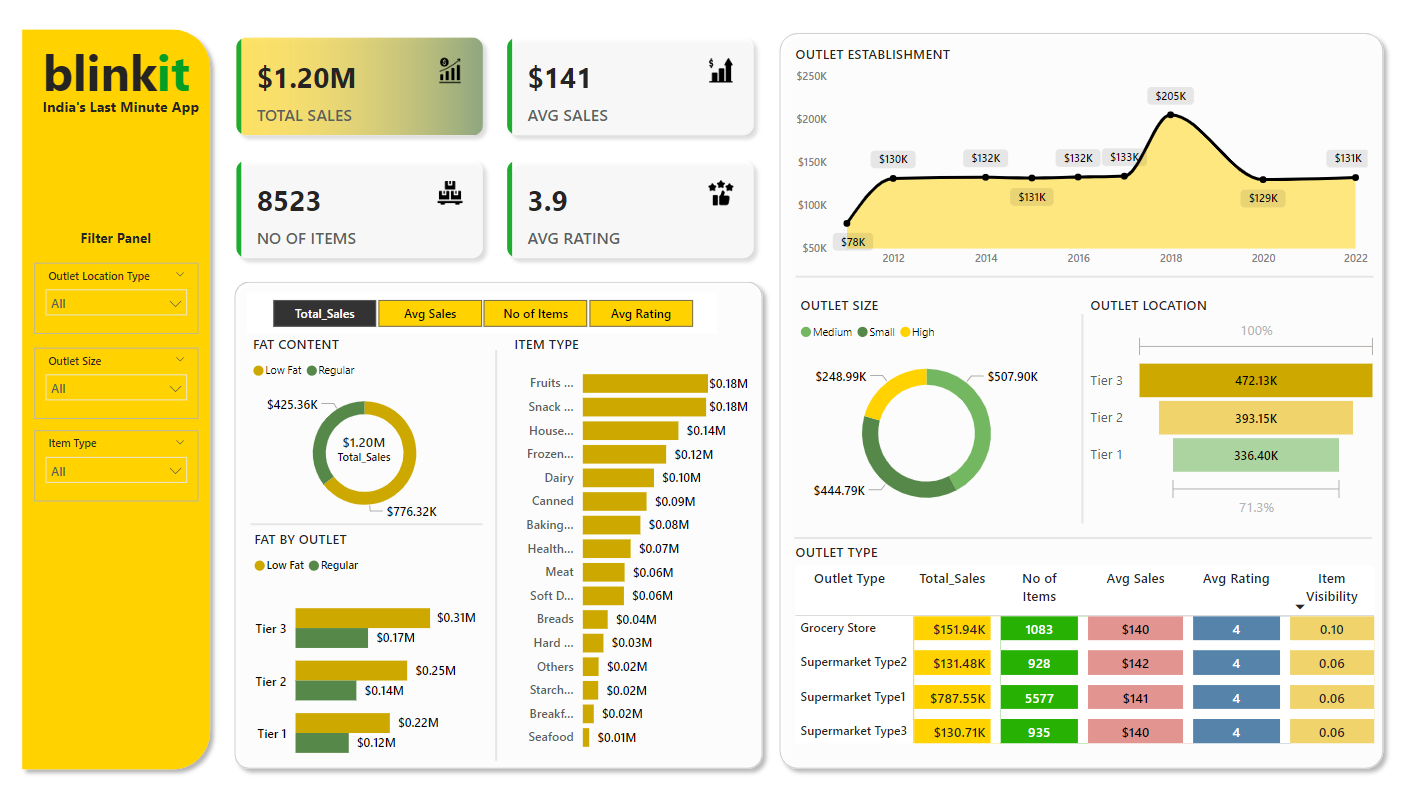

What the dashboard file says about the page in this screenshot:
{"tool":"powerbi","page":{"name":"Page 1","canvas":[1400,800],"ordinal":0},"visuals":[{"type":"shape","box":[19.5,25.5,204.1,750.4],"z":0},{"type":"textbox","box":[19.5,39,204.1,75],"z":1000},{"type":"textbox","box":[30,49.5,193.6,75],"z":2000},{"type":"textbox","box":[37.5,96.1,178.6,28.5],"z":3000},{"type":"cardVisual","fields":{"Data":["BlinkIT Grocery Data.Total_Sales","BlinkIT Grocery Data.Avg Sales","BlinkIT Grocery Data.No of Items","BlinkIT Grocery Data.Avg Rating"]},"box":[223.6,25.5,546.3,252.1],"z":4000},{"type":"shape","box":[229.6,276.2,540.3,499.8],"z":5000},{"type":"donutChart","title":"FAT CONTENT","fields":{"Y":["BlinkIT Grocery Data.Total_Sales"],"Category":["BlinkIT Grocery Data.Item Fat Content"]},"box":[252.1,336.2,231.1,190.6],"z":6000},{"type":"slicer","fields":{"Values":["Metrics.Metrics"]},"box":[250.6,295.7,465.3,40.5],"z":7000},{"type":"cardVisual","fields":{"Data":["BlinkIT Grocery Data.Total_Sales"]},"box":[319.7,417.2,96.1,61.5],"z":8000},{"type":"clusteredBarChart","title":"FAT BY OUTLET","fields":{"Y":["BlinkIT Grocery Data.Total_Sales"],"Category":["BlinkIT Grocery Data.Outlet Location Type"],"Series":["BlinkIT Grocery Data.Item Fat Content"]},"box":[253.6,529.8,229.6,249.1],"z":9000},{"type":"shape","box":[255.1,505.8,229.6,37.5],"z":10000},{"type":"shape","box":[462.3,352.7,70.5,406.7],"z":11000},{"type":"barChart","title":"ITEM TYPE","fields":{"Y":["BlinkIT Grocery Data.Total_Sales"],"Category":["BlinkIT Grocery Data.Item Type"]},"box":[510.3,336.2,241.6,423.2],"z":12000},{"type":"shape","box":[769.9,30,615.4,745.9],"z":13000},{"type":"lineChart","title":" OUTLET ESTABLISHMENT","fields":{"Category":["BlinkIT Grocery Data.Outlet Establishment Year"],"Y":["BlinkIT Grocery Data.Total_Sales"]},"box":[789.5,49.5,576.3,229.6],"z":14000},{"type":"shape","box":[794,261.2,571.8,37.5],"z":15000},{"type":"donutChart","title":"OUTLET SIZE","fields":{"Y":["BlinkIT Grocery Data.Total_Sales"],"Category":["BlinkIT Grocery Data.Outlet Size"]},"box":[794,298.7,259.6,228.1],"z":16000},{"type":"shape","box":[1043.1,316.7,70.5,207.1],"z":17000},{"type":"funnel","title":" OUTLET LOCATION","fields":{"Y":["Sum(BlinkIT Grocery Data.Sales)"],"Category":["BlinkIT Grocery Data.Outlet Location Type"]},"box":[1080.6,298.7,294.2,225.1],"z":18000},{"type":"shape","box":[792.5,519.3,571.8,37.5],"z":19000},{"type":"pivotTable","title":"OUTLET TYPE","fields":{"Rows":["BlinkIT Grocery Data.Outlet Type"],"Values":["BlinkIT Grocery Data.Total_Sales","BlinkIT Grocery Data.No of Items","BlinkIT Grocery Data.Avg Sales","BlinkIT Grocery Data.Avg Rating","Avg(BlinkIT Grocery Data.Item Visibility)"]},"box":[789.5,543.3,582.3,216.1],"z":20000},{"type":"slicer","fields":{"Values":["BlinkIT Grocery Data.Outlet Location Type"]},"box":[40.5,265.7,162.1,70.5],"z":21000},{"type":"slicer","fields":{"Values":["BlinkIT Grocery Data.Outlet Size"]},"box":[40.5,349.7,162.1,70.5],"z":22000},{"type":"slicer","fields":{"Values":["BlinkIT Grocery Data.Item Type"]},"box":[40.5,432.2,162.1,70.5],"z":23000},{"type":"textbox","box":[70.5,228.1,102.1,37.5],"z":24000}]}

Visuals, with their boxes in screenshot pixels (x1, y1, x2, y2), scaled from the page's 1400x800 canvas onto the 1408x798 screenshot:
shape: x1=20 y1=25 x2=225 y2=774
textbox: x1=20 y1=39 x2=225 y2=114
textbox: x1=30 y1=49 x2=225 y2=124
textbox: x1=38 y1=96 x2=217 y2=124
cardVisual - BlinkIT Grocery Data.Total_Sales x BlinkIT Grocery Data.Avg Sales: x1=225 y1=25 x2=774 y2=277
shape: x1=231 y1=276 x2=774 y2=774
"FAT CONTENT" donutChart: x1=254 y1=335 x2=486 y2=525
slicer - Metrics.Metrics: x1=252 y1=295 x2=720 y2=335
cardVisual - BlinkIT Grocery Data.Total_Sales: x1=322 y1=416 x2=418 y2=478
"FAT BY OUTLET" clusteredBarChart: x1=255 y1=528 x2=486 y2=777
shape: x1=257 y1=505 x2=487 y2=542
shape: x1=465 y1=352 x2=536 y2=758
"ITEM TYPE" barChart: x1=513 y1=335 x2=756 y2=758
shape: x1=774 y1=30 x2=1393 y2=774
" OUTLET ESTABLISHMENT" lineChart: x1=794 y1=49 x2=1374 y2=278
shape: x1=799 y1=261 x2=1374 y2=298
"OUTLET SIZE" donutChart: x1=799 y1=298 x2=1060 y2=525
shape: x1=1049 y1=316 x2=1120 y2=522
" OUTLET LOCATION" funnel: x1=1087 y1=298 x2=1383 y2=522
shape: x1=797 y1=518 x2=1372 y2=555
"OUTLET TYPE" pivotTable: x1=794 y1=542 x2=1380 y2=758
slicer - BlinkIT Grocery Data.Outlet Location Type: x1=41 y1=265 x2=204 y2=335
slicer - BlinkIT Grocery Data.Outlet Size: x1=41 y1=349 x2=204 y2=419
slicer - BlinkIT Grocery Data.Item Type: x1=41 y1=431 x2=204 y2=501
textbox: x1=71 y1=228 x2=174 y2=265
